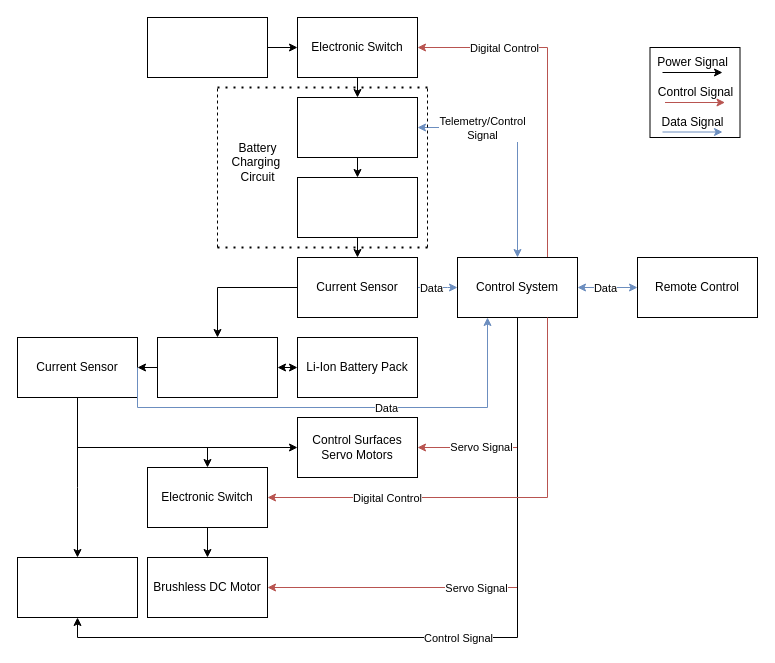
This 775x663 diagram has some shape labels left out. Each missing label, with the centre of its shape:
Battery Management System: the point at 217,367
Buck-Boost Converter: the point at 357,207
Current Shunt: the point at 77,587
MPPT: the point at 357,127
Solar Array: the point at 207,47
